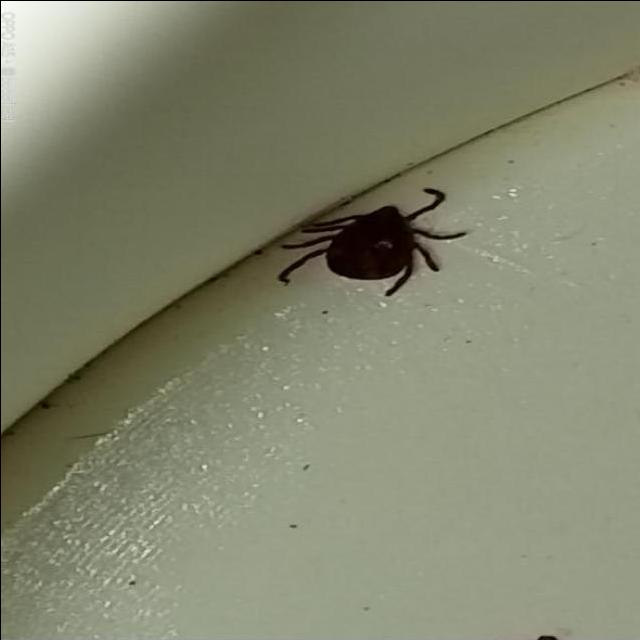Rhipicephalus Sanguineus-M: (277, 189, 465, 297)
